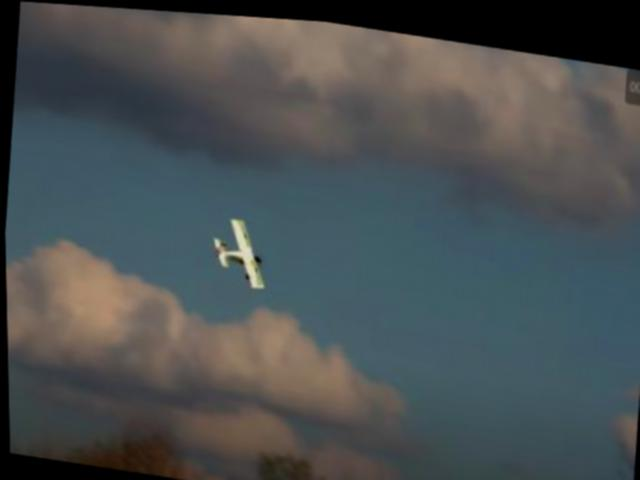uav: (205, 212, 271, 292)
